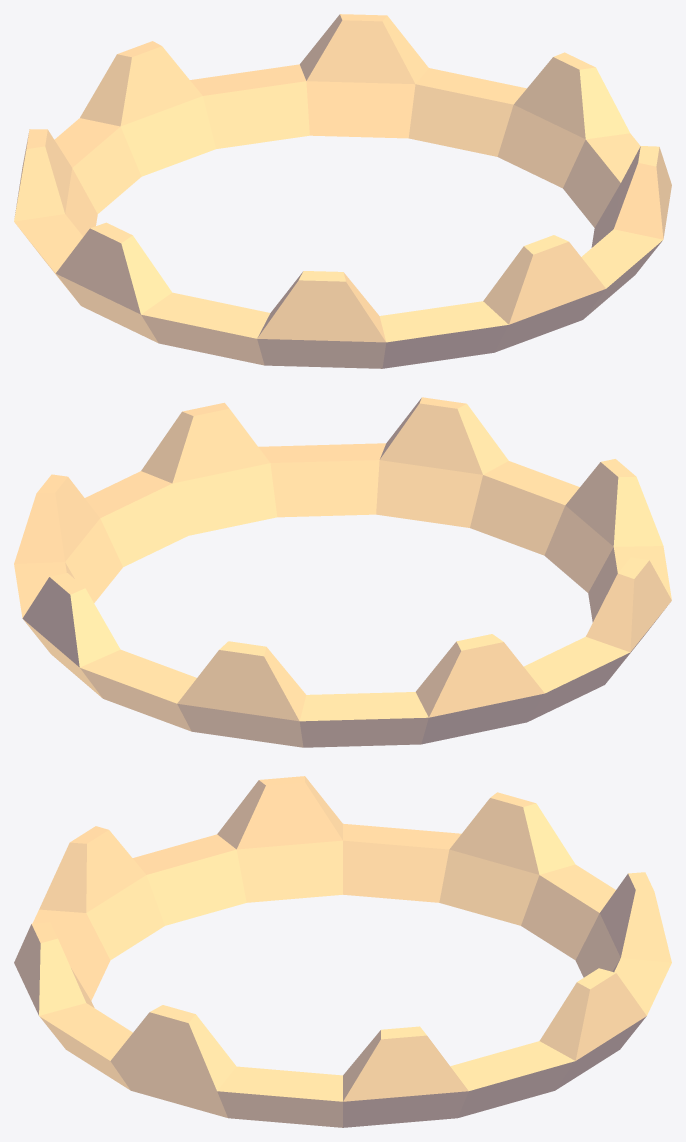
File: MainBuilding_Lv3_Rings.001.fbx
3 renders of one model, top to bottom at view 1: azimuth 30°, elevation 25°; view 2: azimuth 150°, elevation 25°; view 3: azimuth 270°, elevation 25°, orthographic.
Parts seen in each view (by area): view 1: Base_Lvl03_Rings.002; view 2: Base_Lvl03_Rings.002; view 3: Base_Lvl03_Rings.002.
Part boxes in pixels (x1,y1,x2,y2): Base_Lvl03_Rings.002: (14, 14, 671, 368); Base_Lvl03_Rings.002: (14, 397, 671, 747); Base_Lvl03_Rings.002: (14, 776, 671, 1127).
Size of the model in its own units: 12818 by 2045 by 12818.
